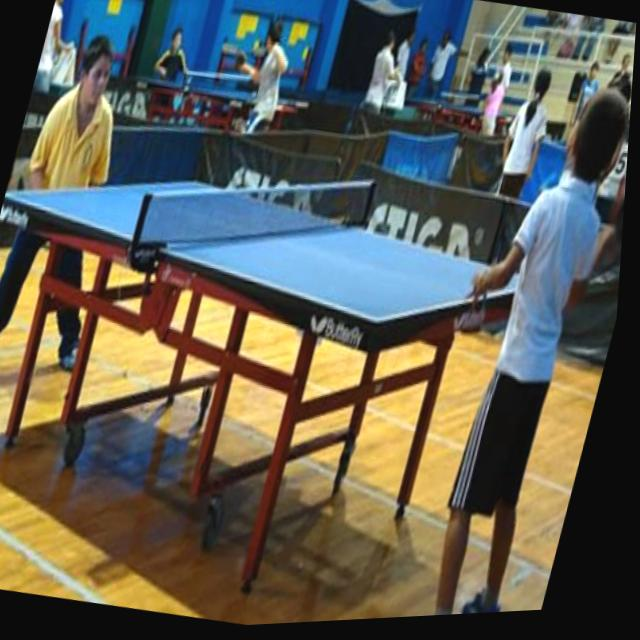TT Net: (127, 179, 379, 254), (175, 69, 265, 102)
TT Racket: (606, 187, 625, 253), (232, 49, 252, 72)
TT Table: (5, 179, 549, 320), (142, 78, 305, 106)
